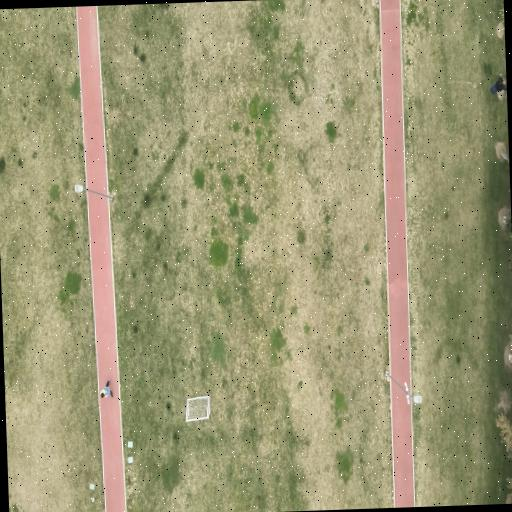person: (489, 77, 506, 94), (100, 380, 111, 398)
